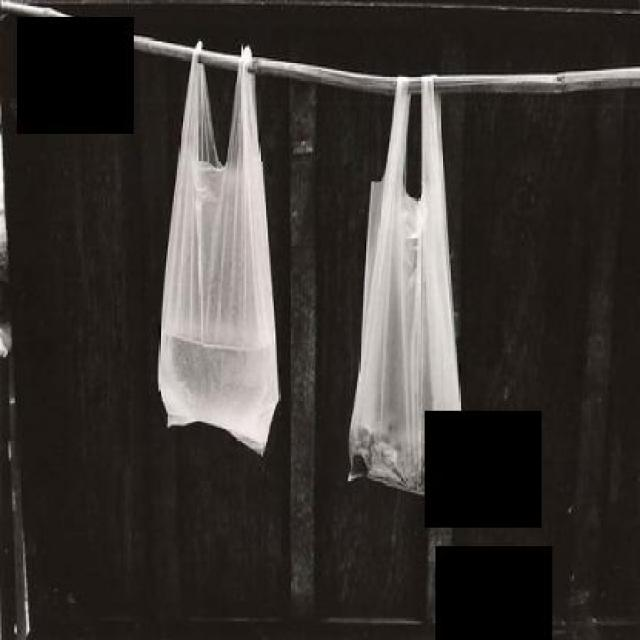plastic bag: (344, 57, 474, 503), (156, 34, 278, 458)
